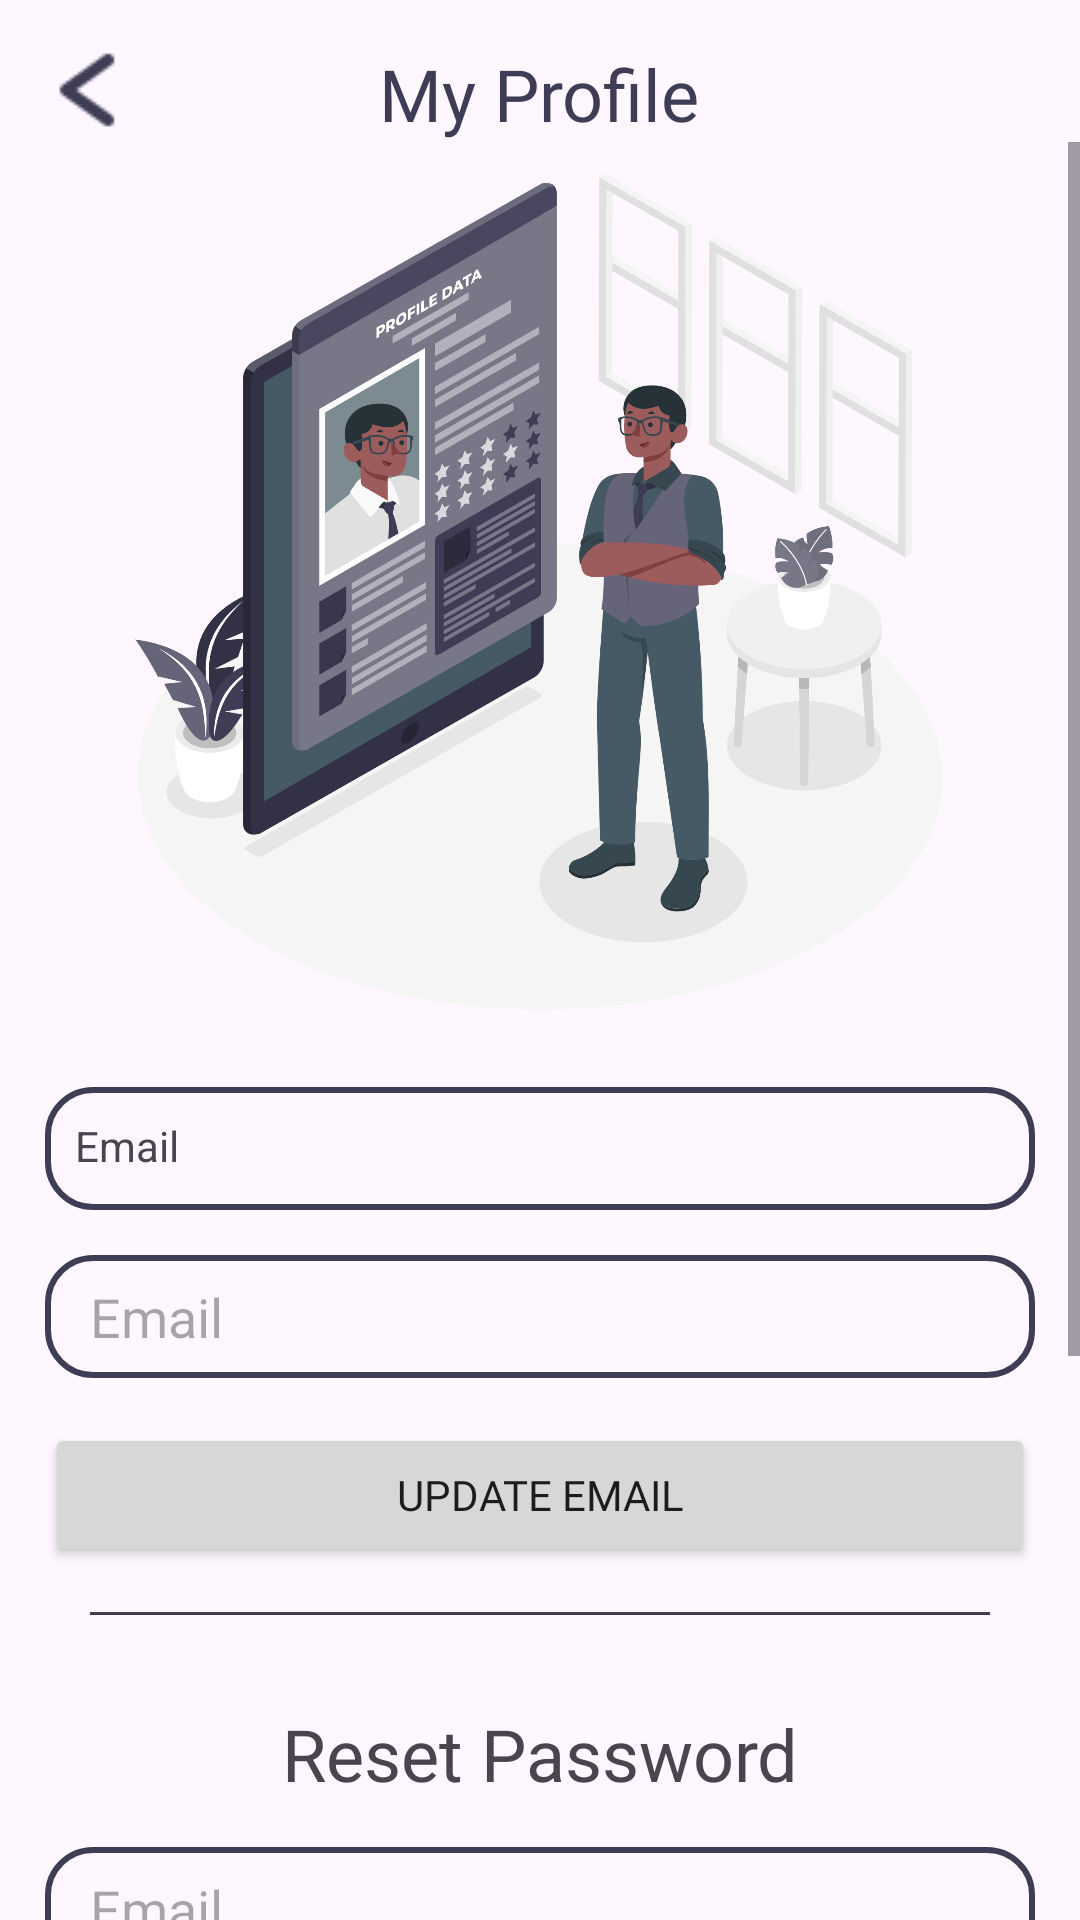

Named icons in this screenshot (1080 x 1920) and their bounding boxes, (x1, y1, x2, y2):
leftarrow: (59, 53, 115, 127)
